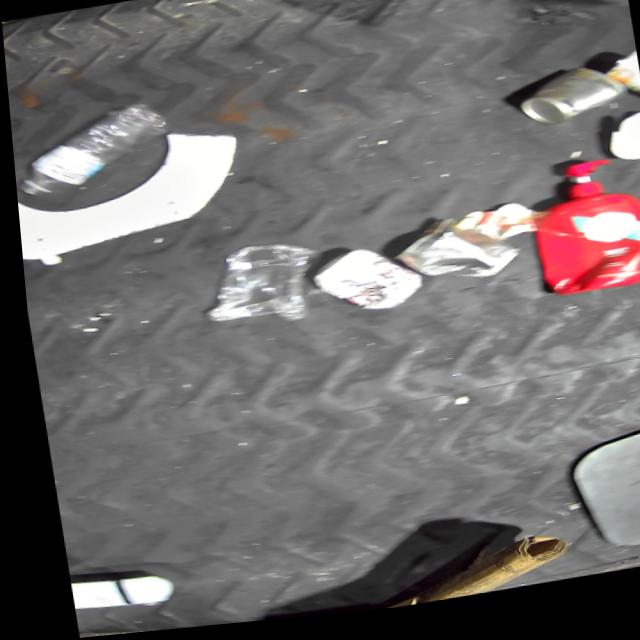can: (304, 249, 416, 324), (401, 229, 511, 292), (512, 75, 615, 139)
non_white_jug: (532, 198, 640, 318)
plastic_bottle: (15, 105, 172, 195)
